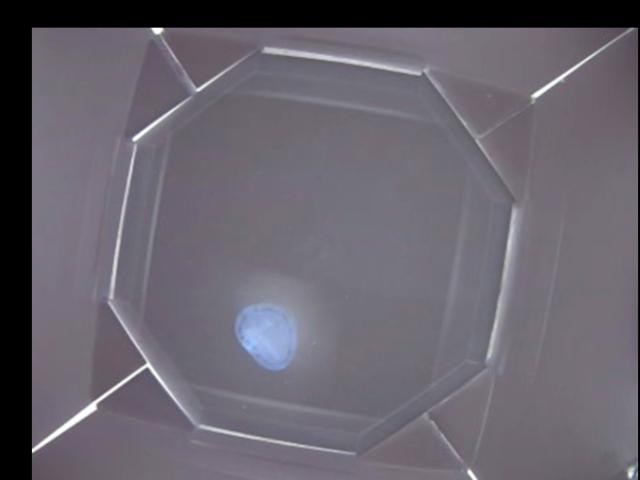Pebble: (235, 302, 296, 371)
